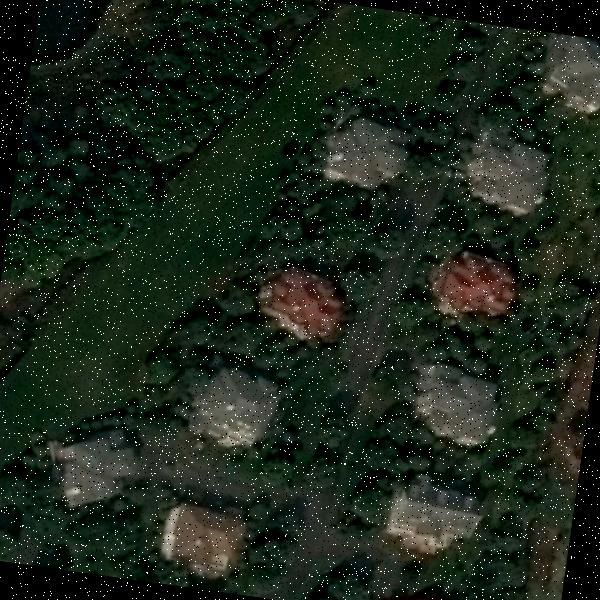Buildings: (190, 370, 284, 450), (54, 418, 134, 508), (412, 367, 501, 444), (420, 250, 508, 317), (167, 501, 250, 572), (388, 482, 475, 549), (464, 146, 548, 211), (325, 121, 399, 186), (274, 276, 341, 338), (553, 43, 600, 106), (374, 588, 468, 600)
